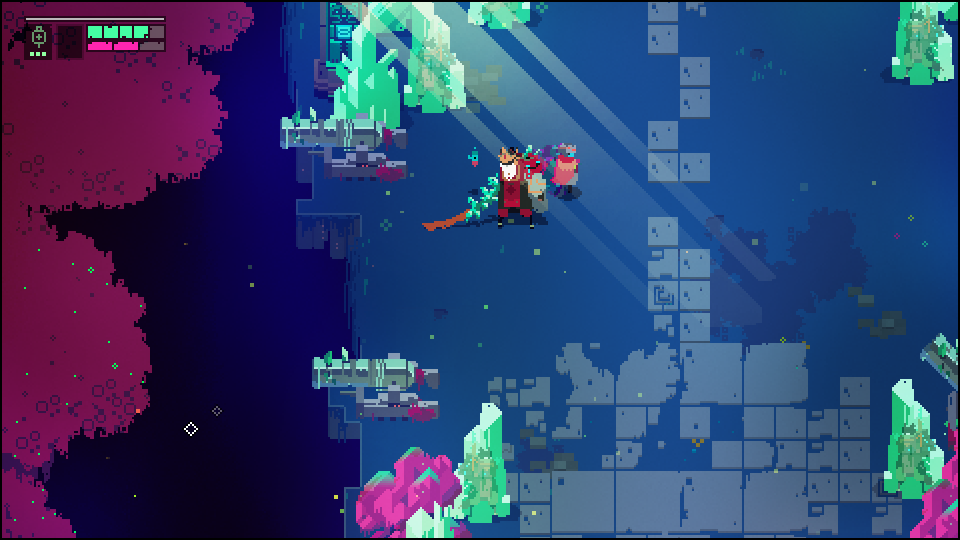hanged_man: (459, 152, 553, 243)
player: (554, 135, 582, 193)
